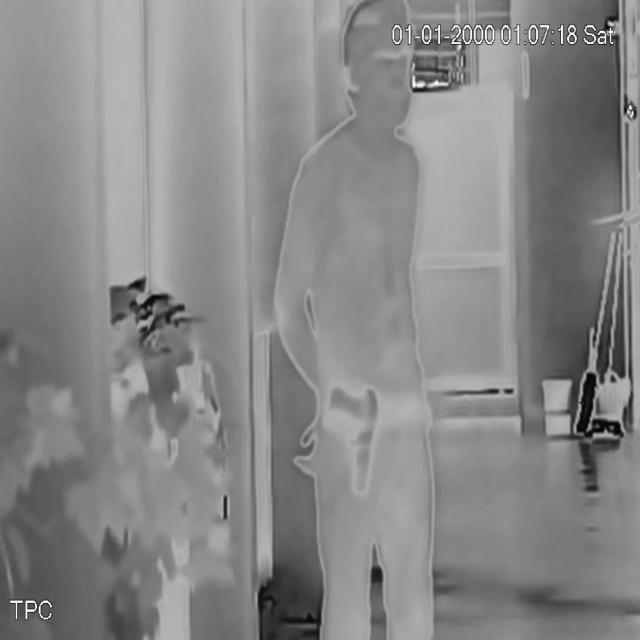Weapon: (320, 379, 390, 503)
